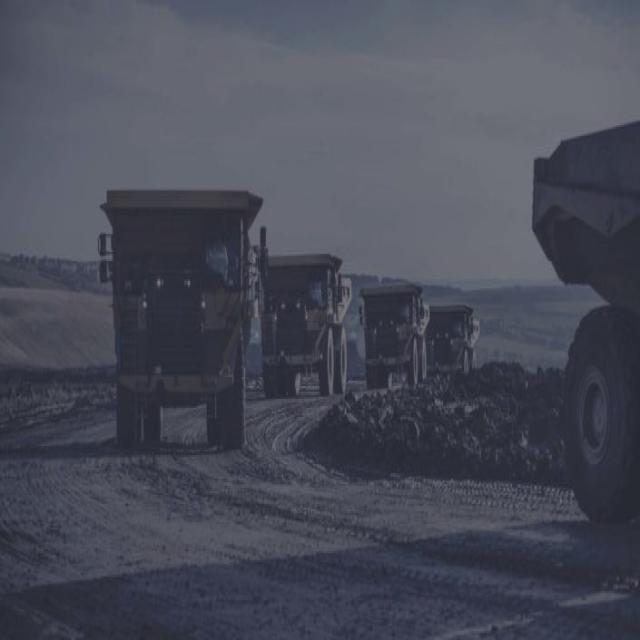dump_truck: (95, 166, 258, 450), (258, 239, 348, 410), (358, 265, 435, 406), (431, 294, 486, 388)
